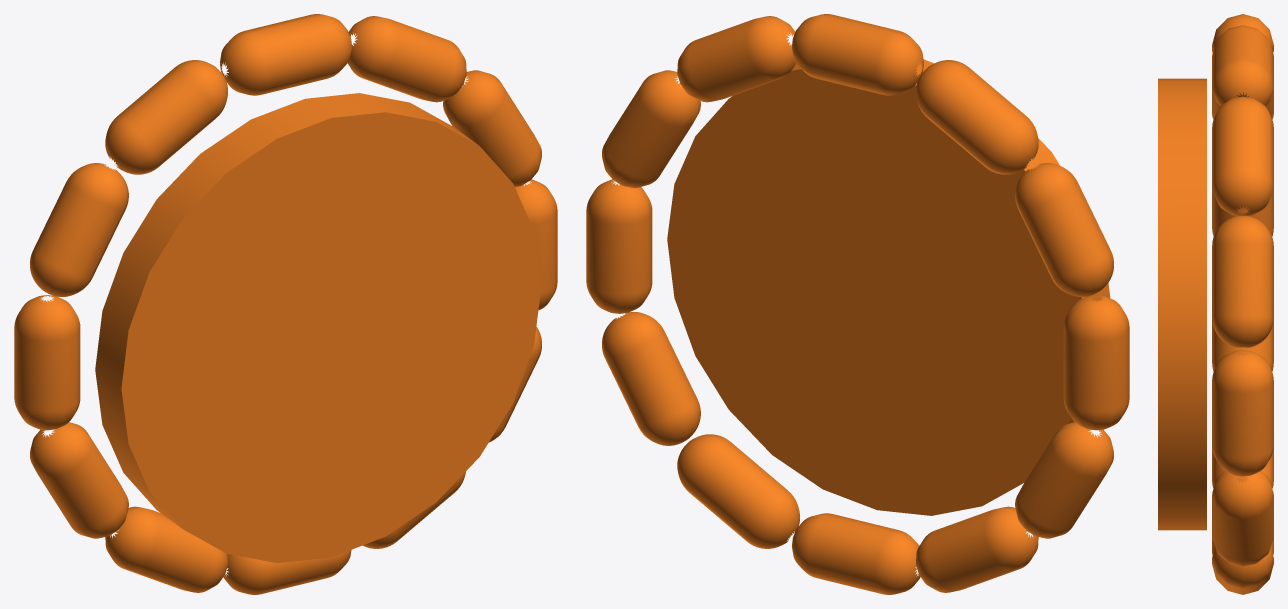
3 renders of one model, left to right at view 1: azimuth 30°, elevation 25°; view 2: azimuth 150°, elevation 25°; view 3: azimuth 270°, elevation 25°, orthographic. The views are drawn at different scales.
Visible parts, largest first — view 1: gripper_frame; view 2: gripper_frame; view 3: gripper_frame.
Boxes of the visible parts, x1=… form: gripper_frame: x1=14, y1=14, x2=557, y2=594; gripper_frame: x1=586, y1=14, x2=1129, y2=594; gripper_frame: x1=1158, y1=14, x2=1273, y2=594.
Bounding box in the file's own units: 0.0235 × 0.0235 × 0.00472.
